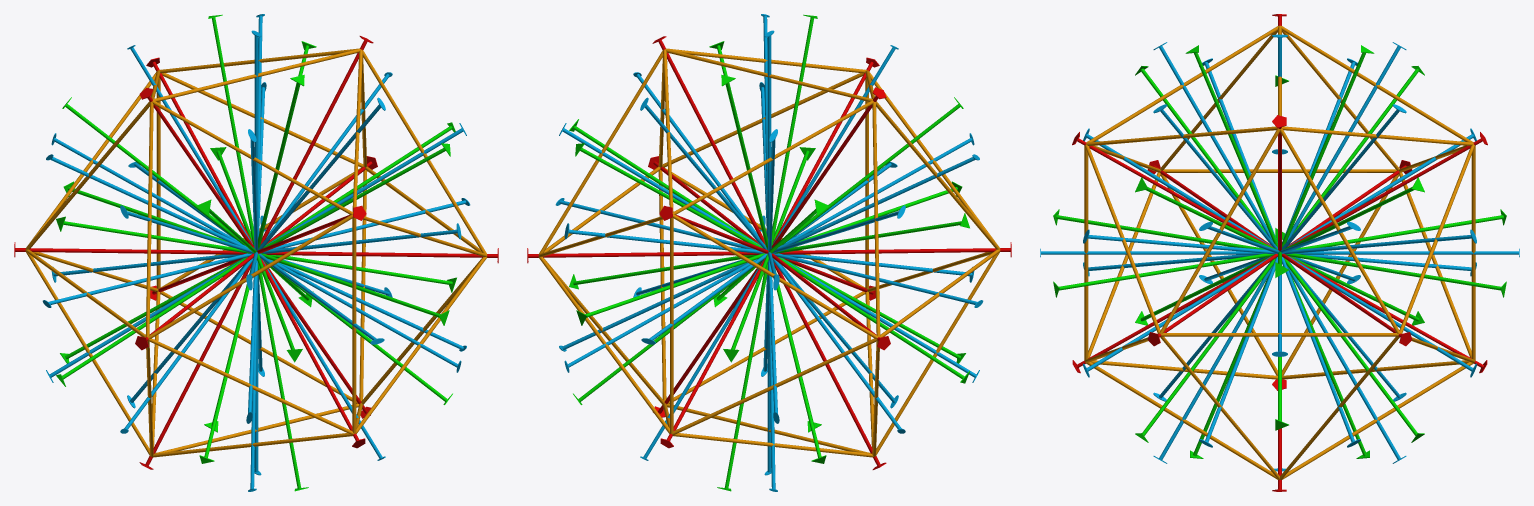
The model's file is 2TBV(3).glb.
The picture shows the model from 3 angles, left to right: view 1: azimuth 30°, elevation 25°; view 2: azimuth 150°, elevation 25°; view 3: azimuth 270°, elevation 25°; orthographic projection.
Bounding box in the file's own units: 419 × 419 × 419.
